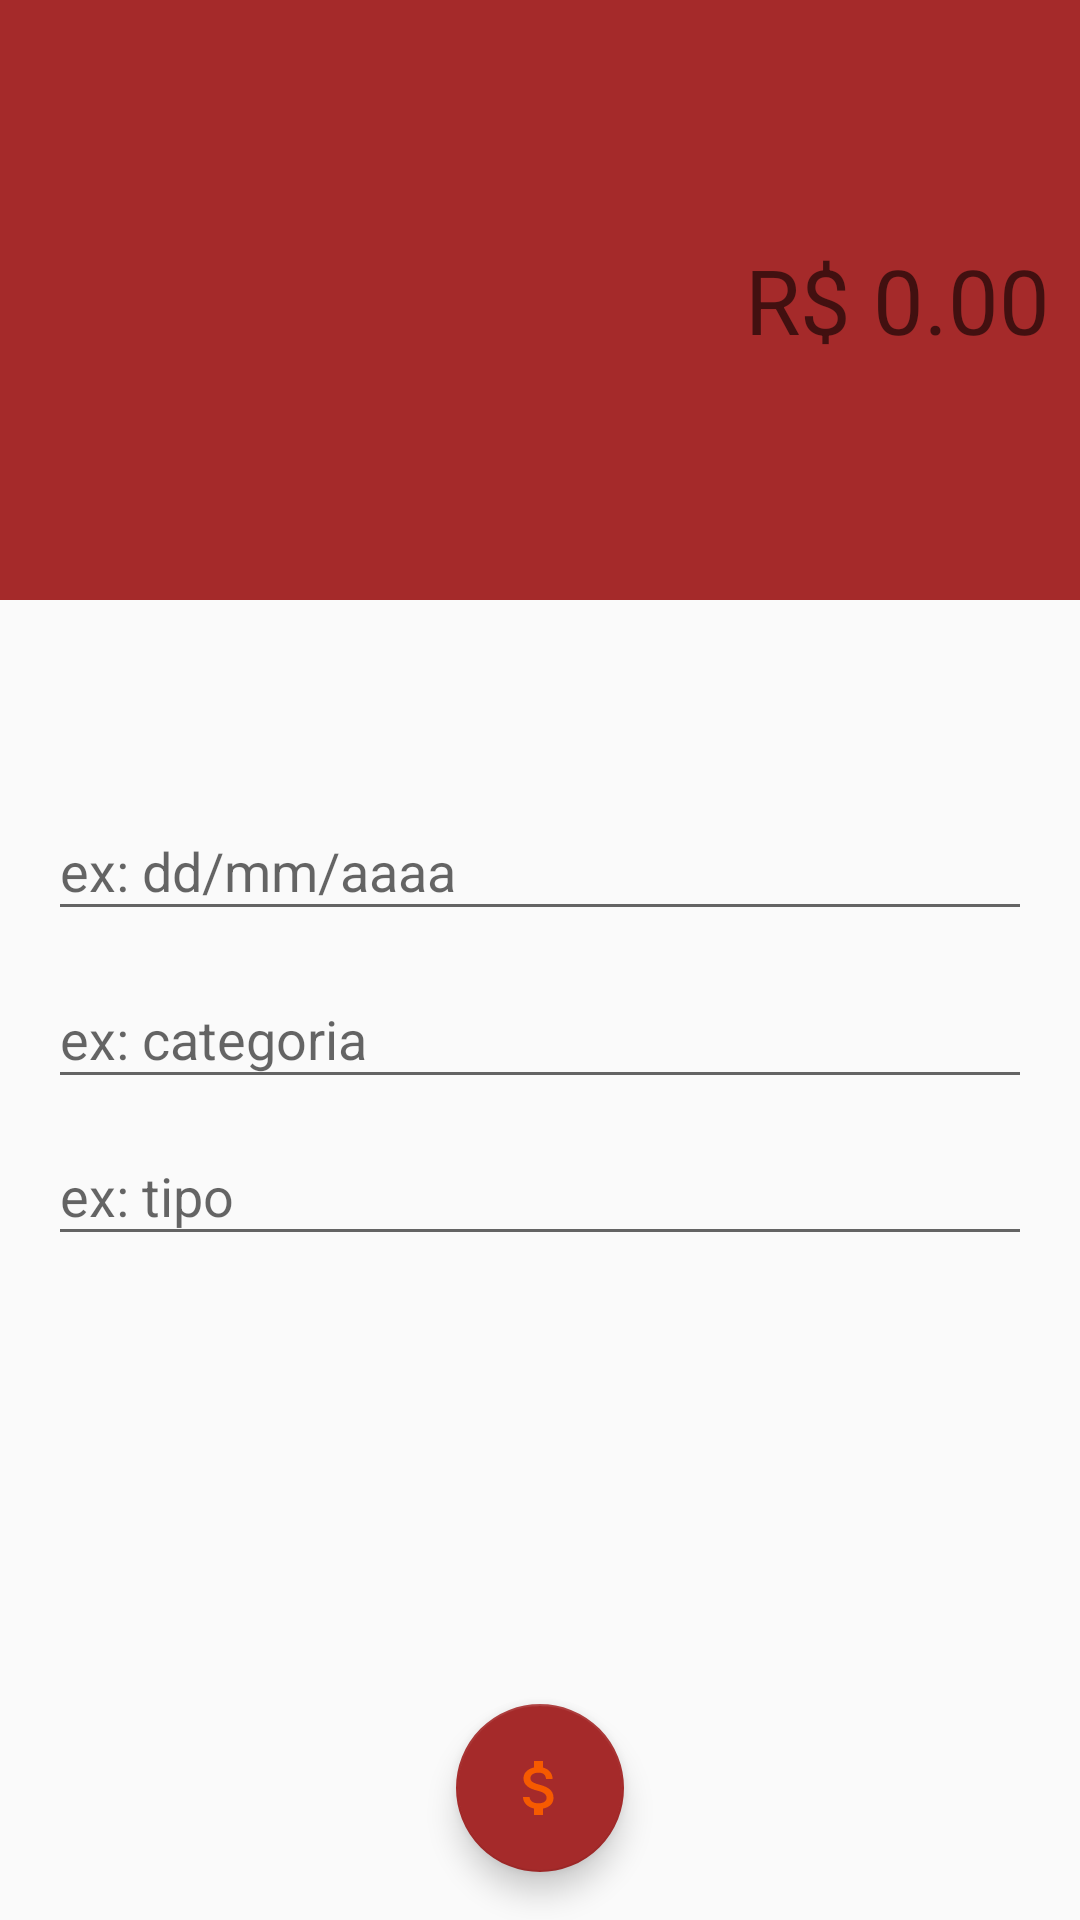

Locate icon controls on the screen. Image size 1080x1920, boxes as {"left": x1, "top": y1, "right": x2, "bottom": y2}.
entrada: {"left": 456, "top": 1704, "right": 624, "bottom": 1872}
